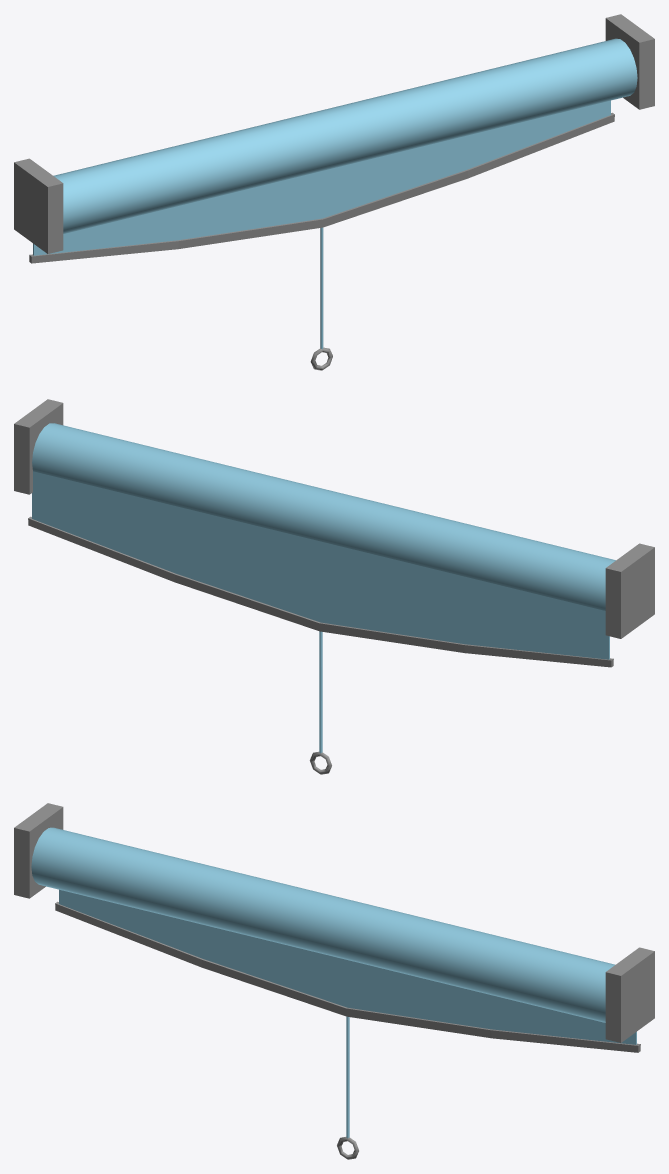
File: PROPS_sunblind_01b.FBX
3 renders of one model, top to bottom at view 1: azimuth 30°, elevation 25°; view 2: azimuth 150°, elevation 25°; view 3: azimuth 330°, elevation 25°, orthographic.
Parts seen in each view (by area): view 1: PROPS_sunblind_01b; view 2: PROPS_sunblind_01b; view 3: PROPS_sunblind_01b.
Boxes of the visible parts, x1,y1,x2,y2 form: PROPS_sunblind_01b: (14,14,654,370); PROPS_sunblind_01b: (14,399,654,774); PROPS_sunblind_01b: (14,803,654,1159).
Size of the model in its own units: 160 by 70.28 by 15.42.
